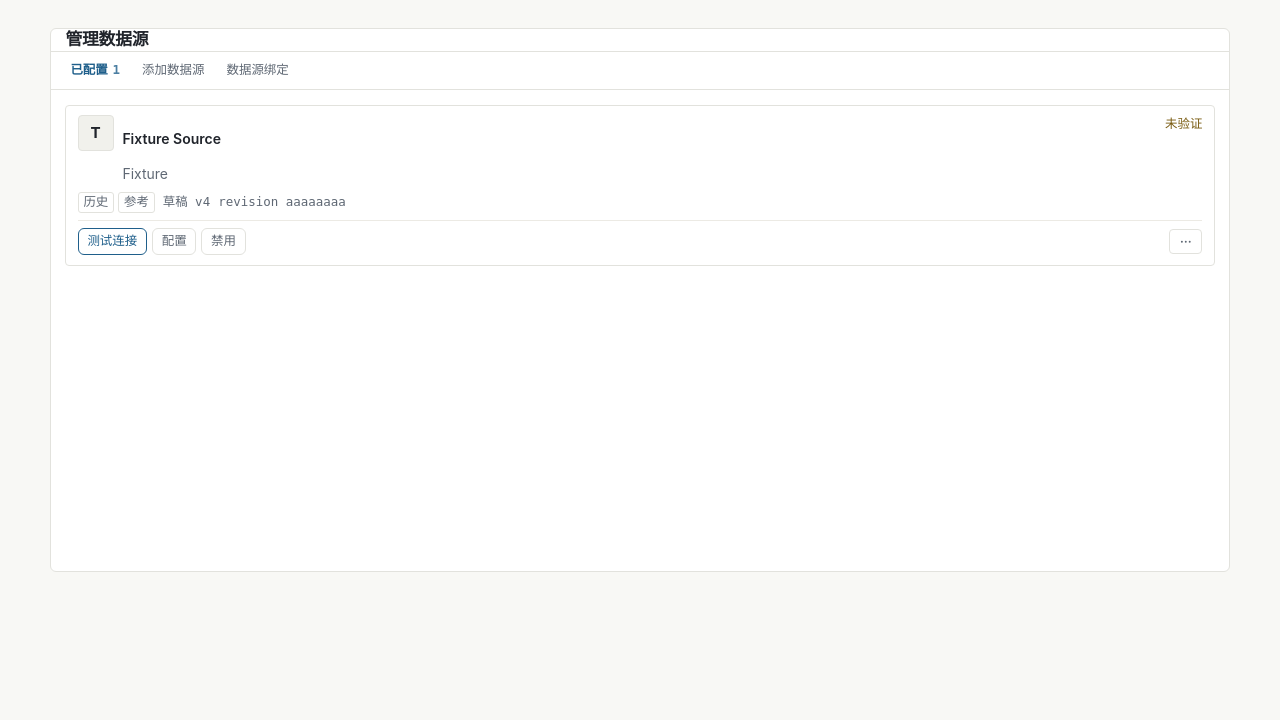
Scenario: closes the overflow menu on Escape without closing the manager
Click the button named "更多操作". click: (1186, 242)
box: left=1169, top=229, right=1202, bottom=254
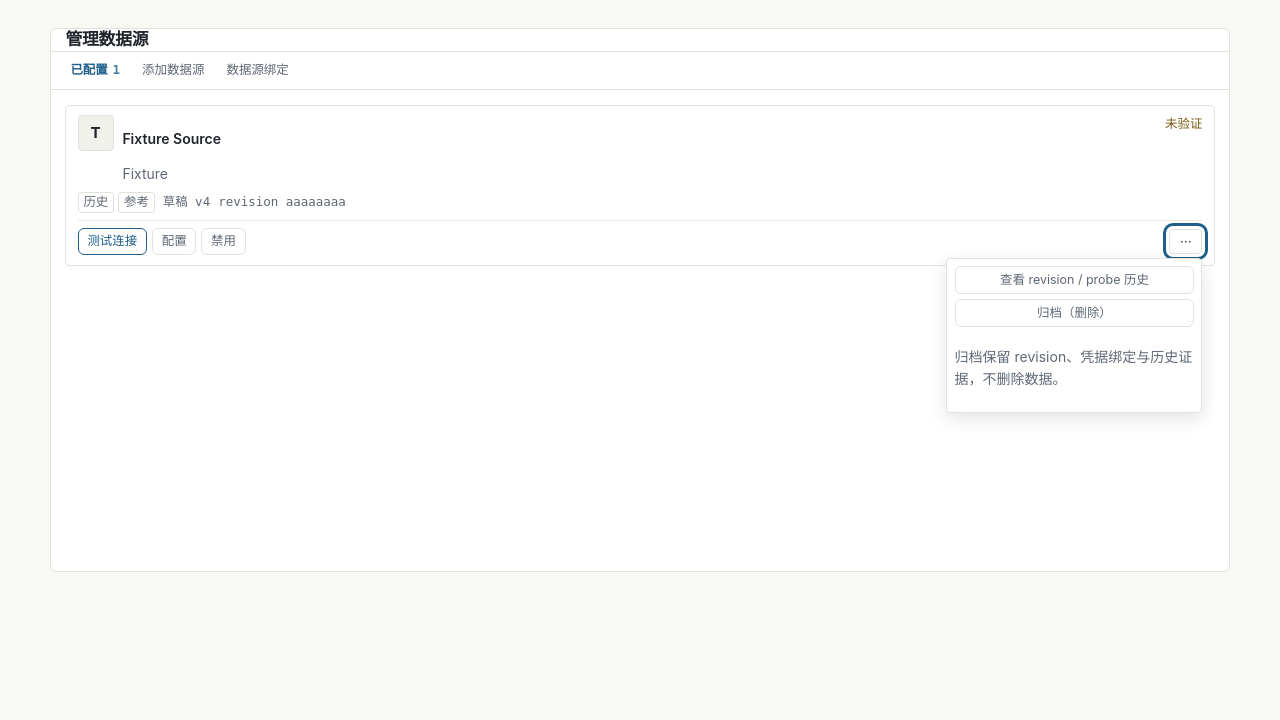
Expected: the button "归档（删除）" is shown, left=955, top=299, right=1194, bottom=327
Press Escape
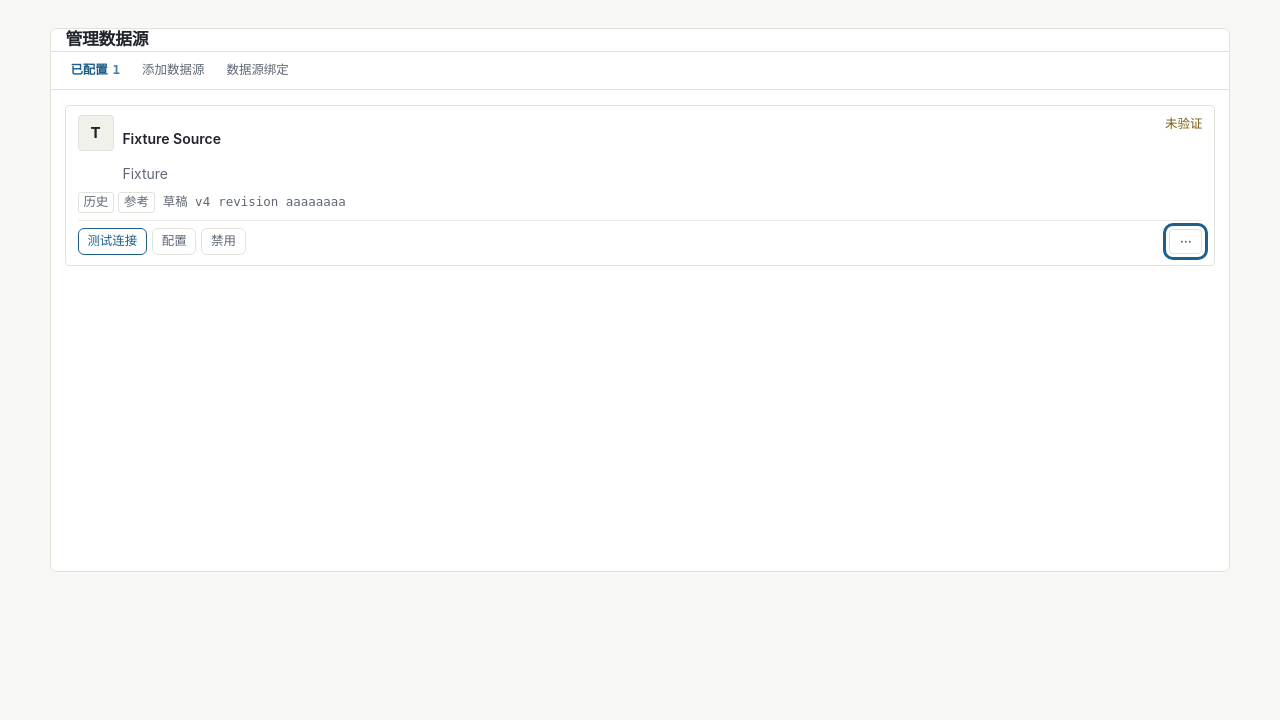
Expected: the button "归档（删除）" is gone
